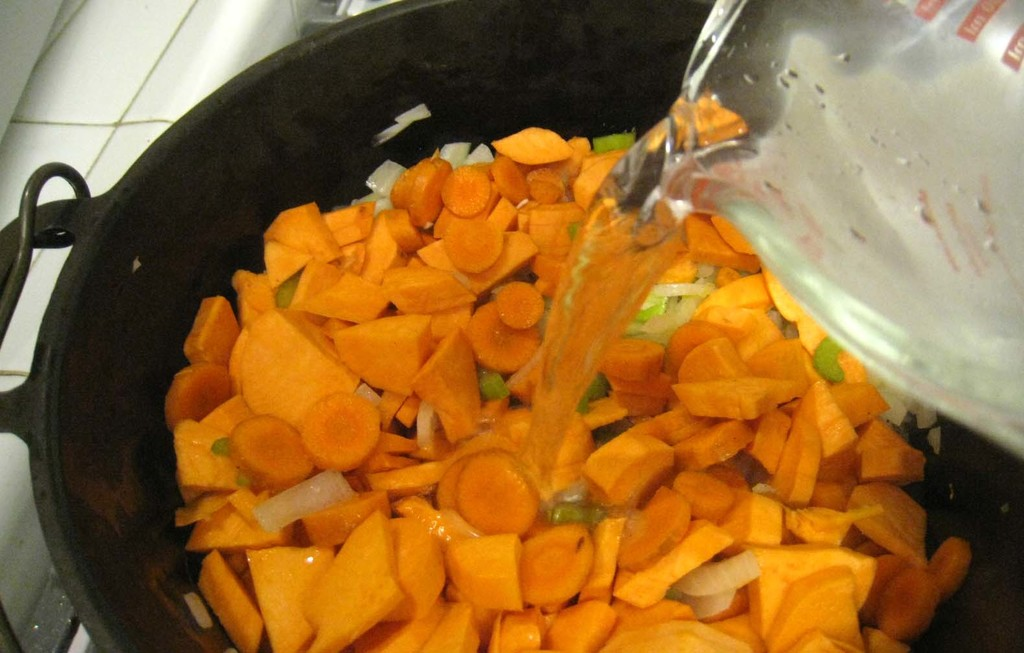Carrot: (131, 68, 1012, 653)
